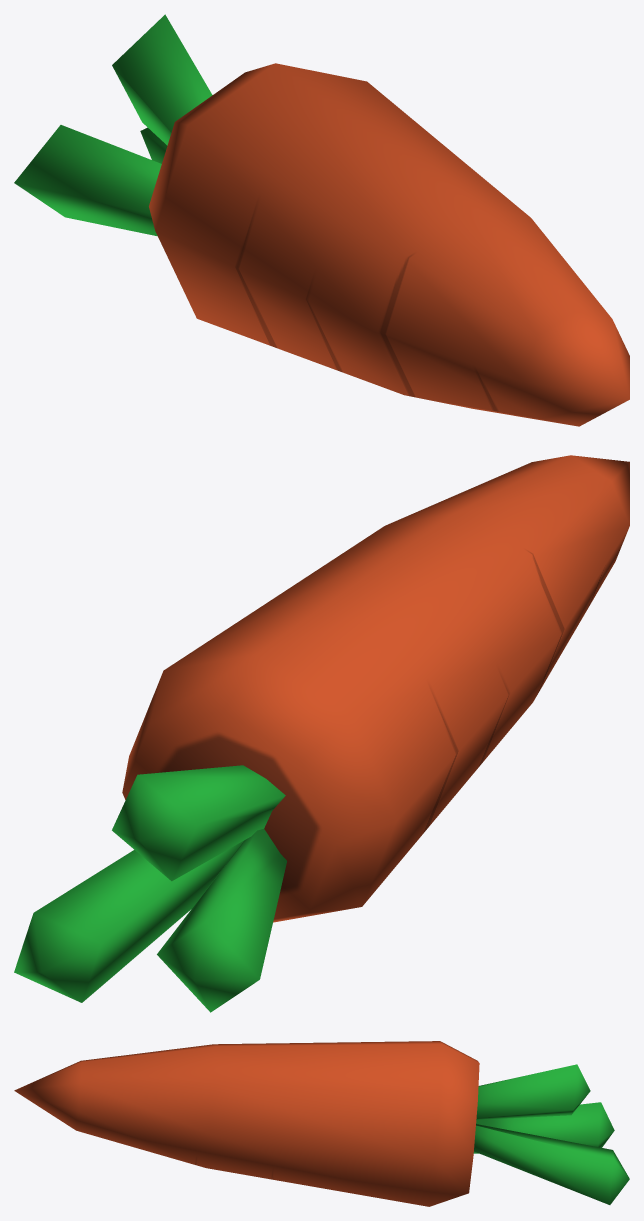
The model's file is carrotColor.fbx.
3 views of the same model, one above another, from view 1: azimuth 30°, elevation 25°; view 2: azimuth 150°, elevation 25°; view 3: azimuth 270°, elevation 25° (orthographic). The views are drawn at different scales.
Visible parts, largest first — view 1: Carrot; view 2: Carrot; view 3: Carrot.
Part boxes in pixels (x1=…): Carrot: x1=14, y1=14, x2=629, y2=426; Carrot: x1=14, y1=455, x2=629, y2=1012; Carrot: x1=14, y1=1041, x2=629, y2=1206.
Size of the model in its own units: 13.04 by 12.7 by 44.35.
